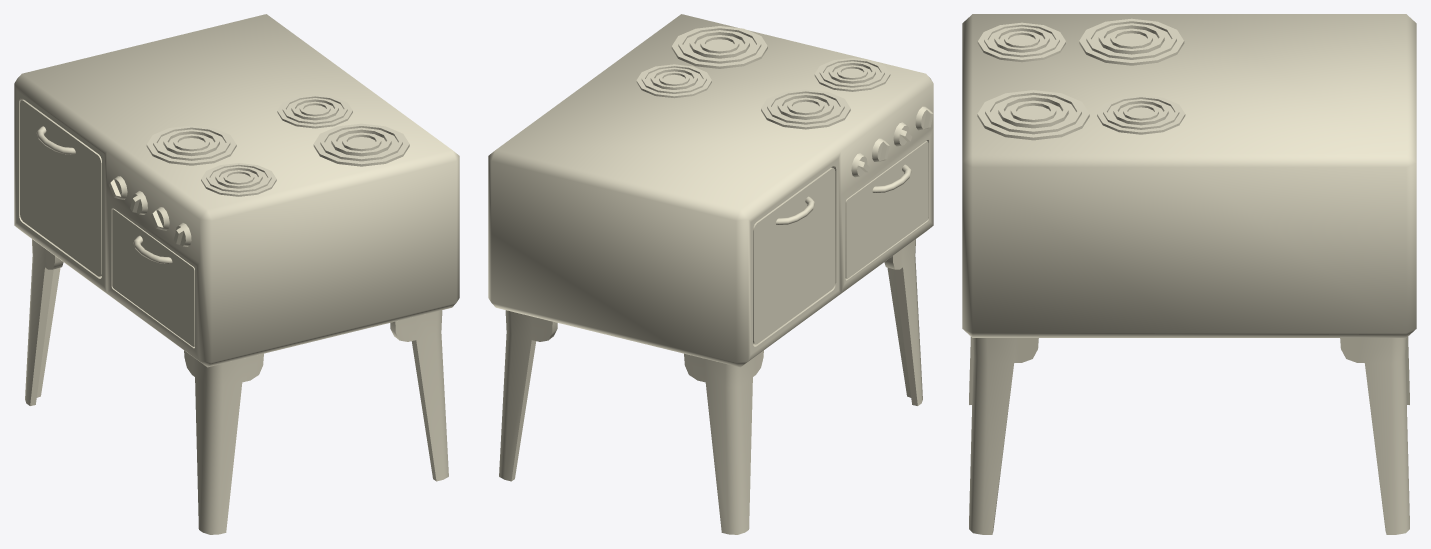
The model's file is oven.fbx.
3 views of the same model, side by side, from view 1: azimuth 30°, elevation 25°; view 2: azimuth 150°, elevation 25°; view 3: azimuth 270°, elevation 25° (orthographic). The views are drawn at different scales.
Parts seen in each view (by area): view 1: oven; view 2: oven; view 3: oven.
Boxes of the visible parts, x1,y1,x2,y2 form: oven: (14,14,459,534); oven: (488,14,933,534); oven: (962,14,1416,534).
Size of the model in its own units: 1.04 by 1.2 by 1.28.
